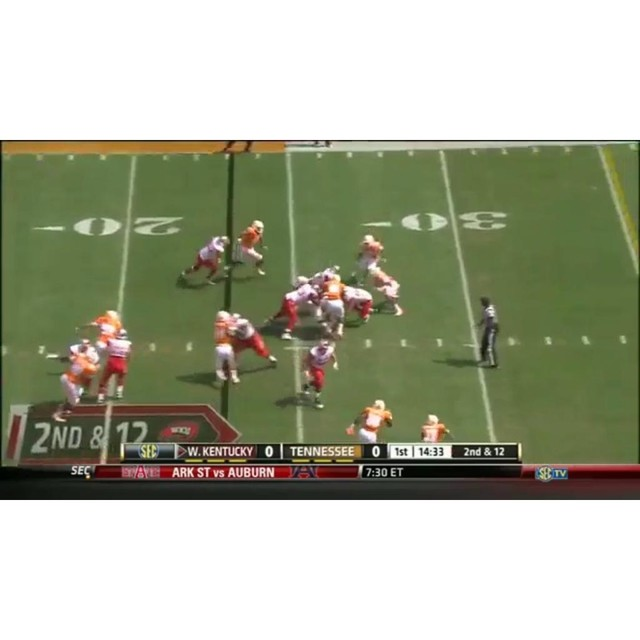american-football-player: (54, 340, 100, 417), (296, 337, 339, 408), (97, 326, 133, 402), (179, 234, 230, 286), (230, 313, 276, 369), (272, 282, 317, 339), (230, 220, 267, 278), (212, 315, 242, 385), (346, 400, 394, 442), (367, 264, 404, 317), (353, 233, 385, 282), (317, 292, 347, 340), (342, 285, 374, 326), (421, 413, 449, 443)
referee: (475, 295, 501, 369)
